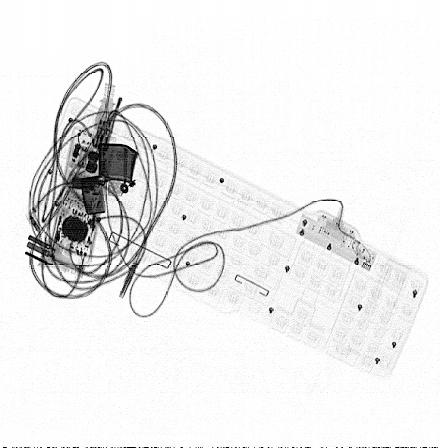Lighter: (80, 143, 138, 216)
